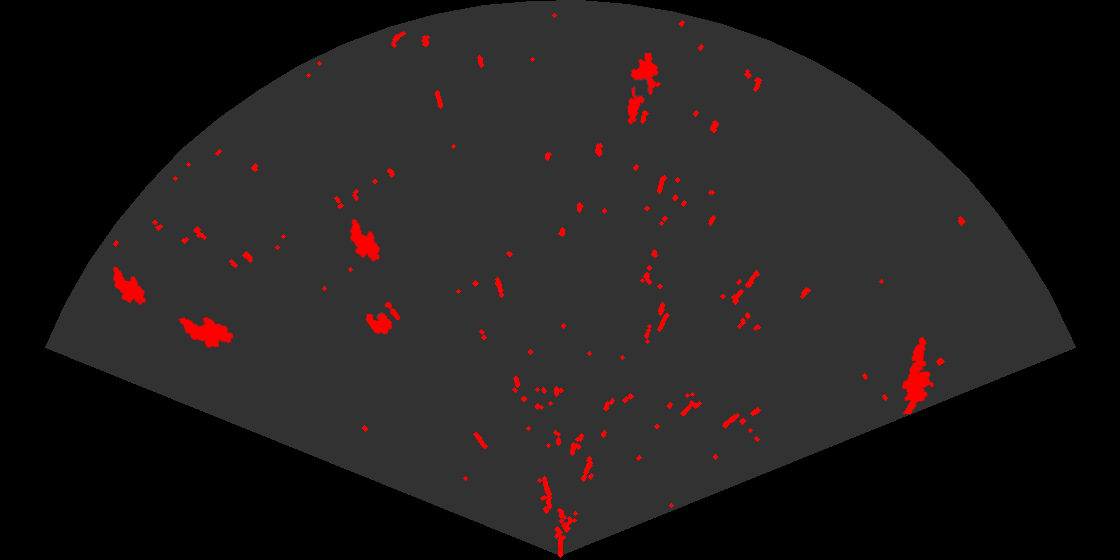AUV: (177, 315, 236, 350), (348, 217, 382, 263), (111, 265, 147, 306)
ball: (364, 300, 402, 336)
frogman: (900, 335, 935, 414), (626, 53, 662, 125)
